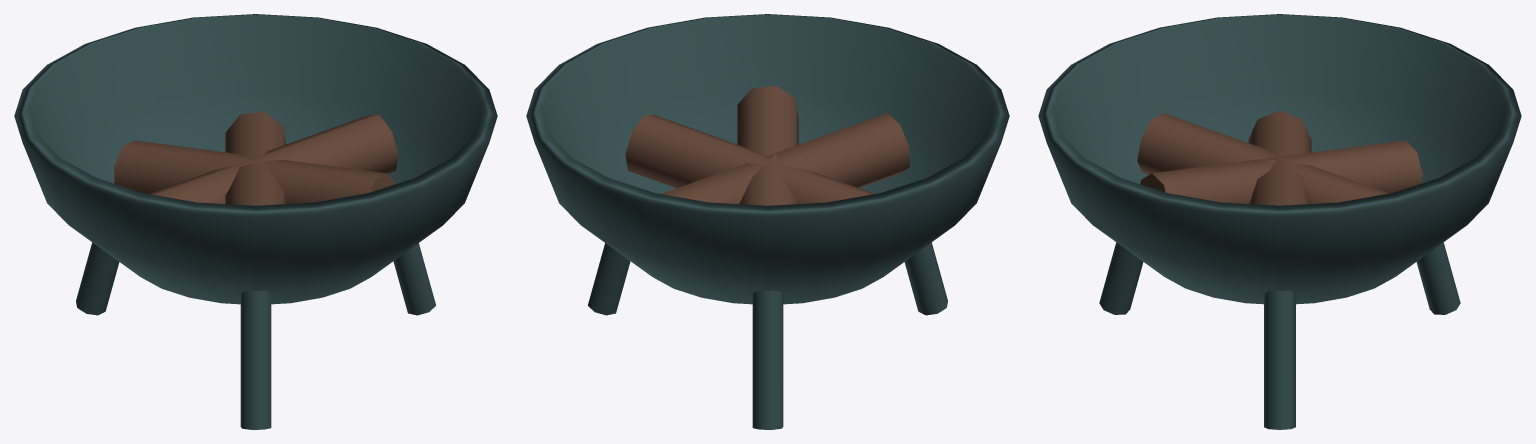
Rendered from almanac-gardens-garden-firepit-1ee74939__22086.glb.
3 renders of one model, left to right at view 1: azimuth 30°, elevation 25°; view 2: azimuth 150°, elevation 25°; view 3: azimuth 270°, elevation 25°, orthographic.
Parts seen in each view (by area): view 1: garden-firepit-iron, garden-firepit-bark; view 2: garden-firepit-iron, garden-firepit-bark; view 3: garden-firepit-iron, garden-firepit-bark.
Boxes of the visible parts, x1=… form: garden-firepit-iron: x1=14, y1=14, x2=497, y2=429; garden-firepit-bark: x1=114, y1=111, x2=398, y2=205; garden-firepit-iron: x1=526, y1=14, x2=1009, y2=429; garden-firepit-bark: x1=625, y1=85, x2=909, y2=205; garden-firepit-iron: x1=1038, y1=14, x2=1521, y2=429; garden-firepit-bark: x1=1137, y1=111, x2=1422, y2=205.
Bounding box in the file's own units: 0.76 × 0.4166 × 0.76.
